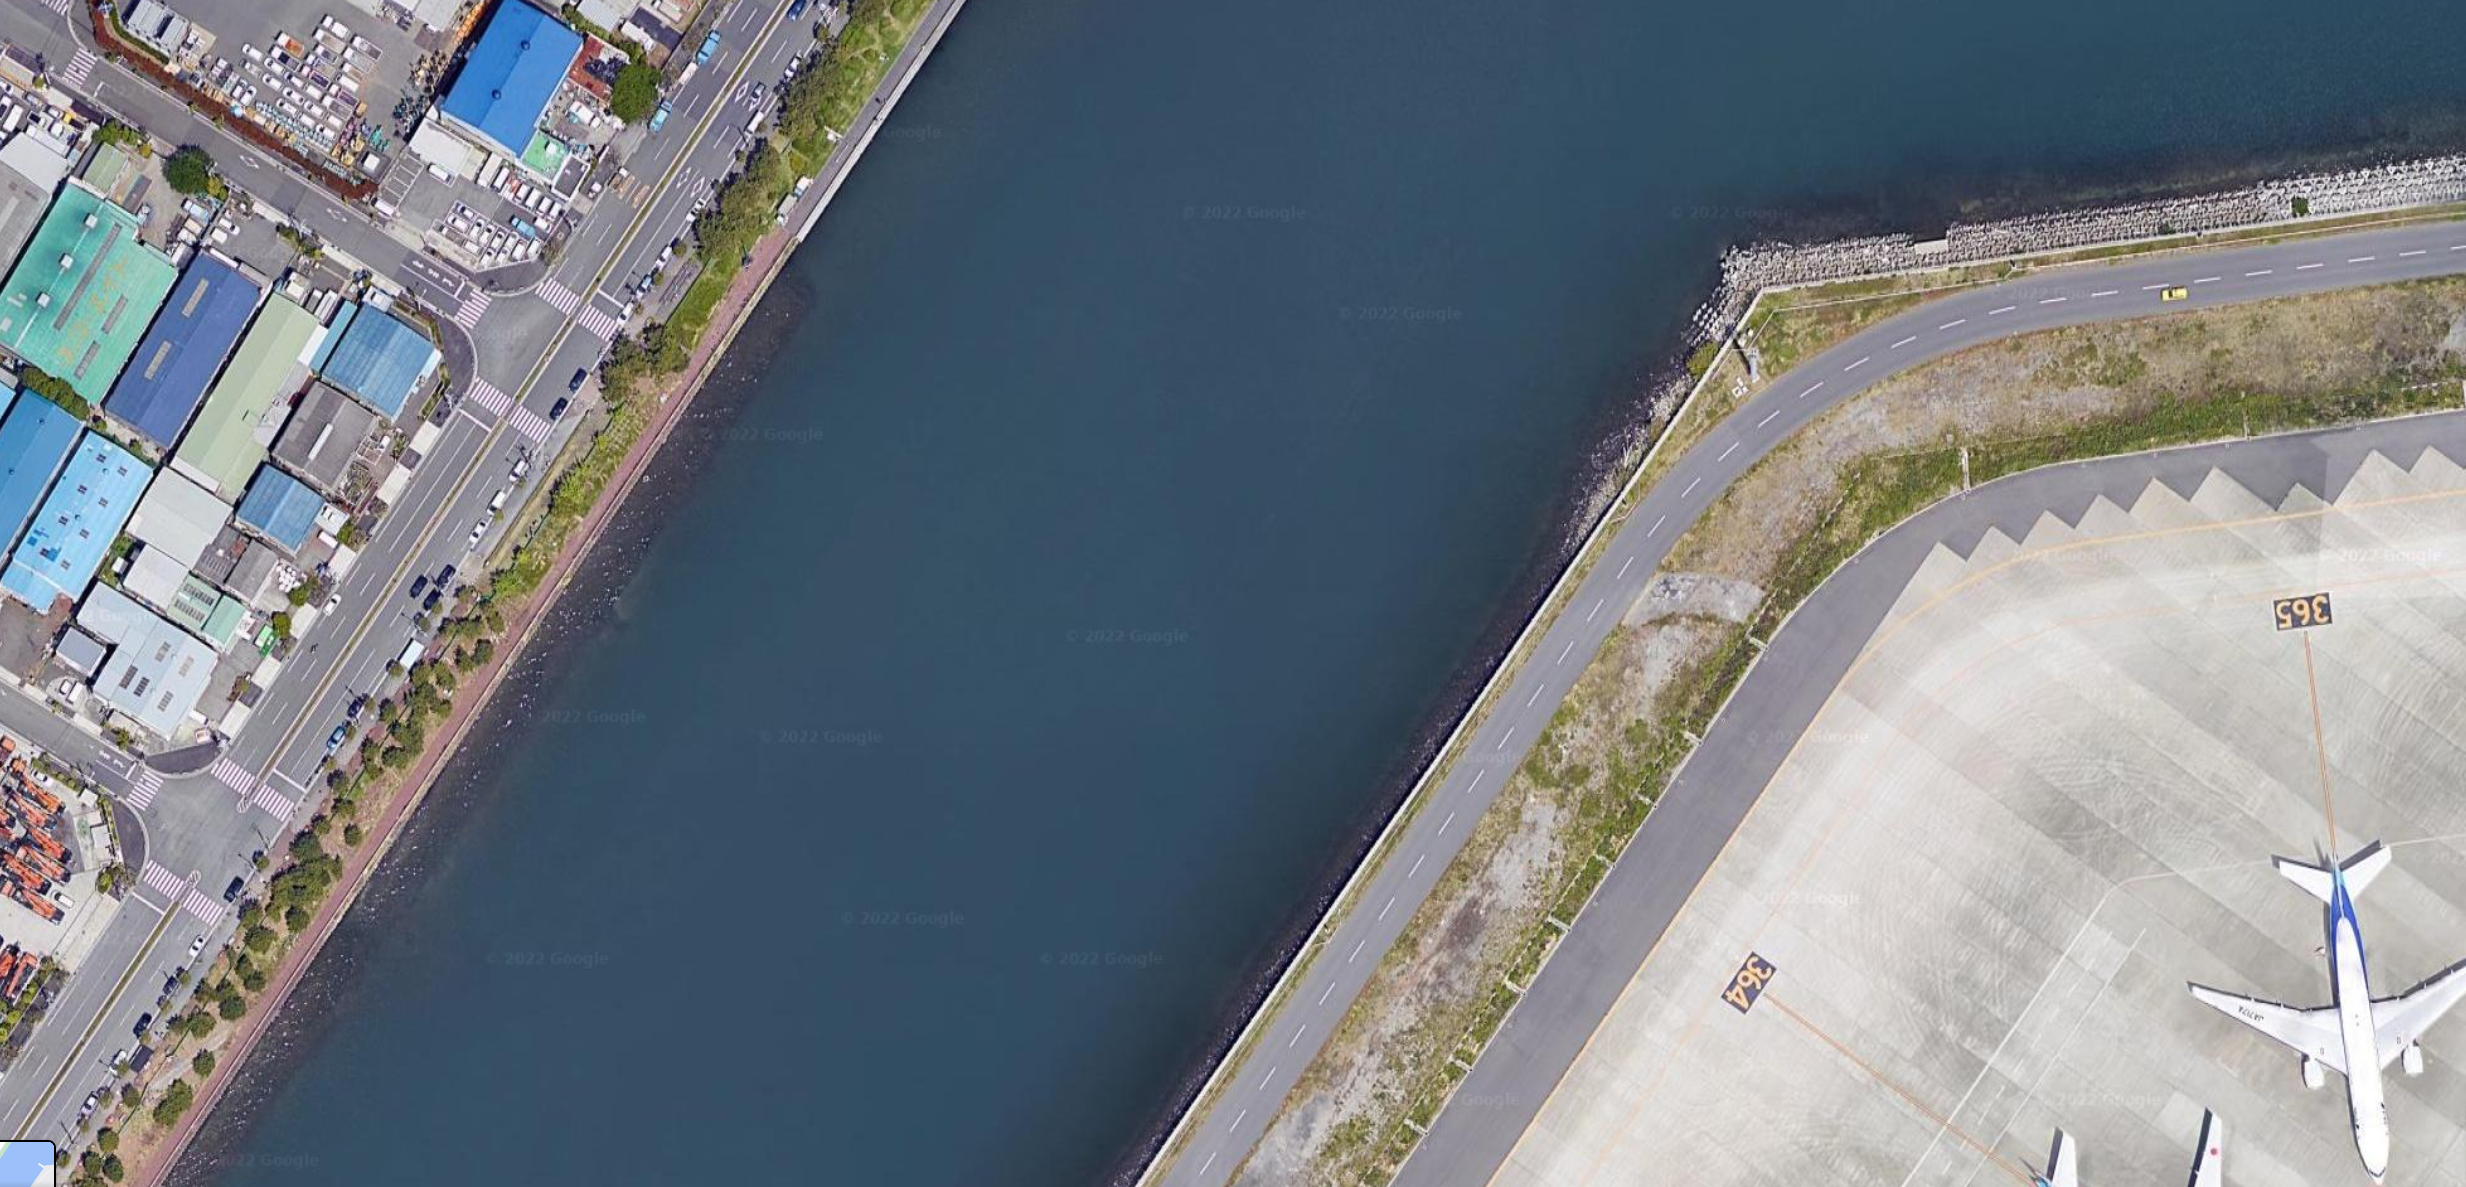car: (486, 489, 508, 516), (222, 876, 244, 902), (436, 564, 458, 590), (686, 198, 708, 223), (447, 212, 470, 234), (469, 517, 489, 542), (107, 1049, 127, 1074), (407, 574, 428, 597), (568, 368, 587, 393), (322, 593, 341, 616), (510, 461, 528, 483), (80, 1093, 99, 1115), (189, 935, 206, 959), (616, 300, 634, 324), (478, 223, 494, 248), (635, 277, 654, 297), (656, 245, 675, 266), (455, 201, 473, 222), (327, 726, 344, 748), (550, 398, 568, 420), (749, 82, 766, 104), (469, 219, 484, 241), (423, 591, 440, 610), (348, 698, 363, 718)
plane: (2188, 843, 2466, 1182)
